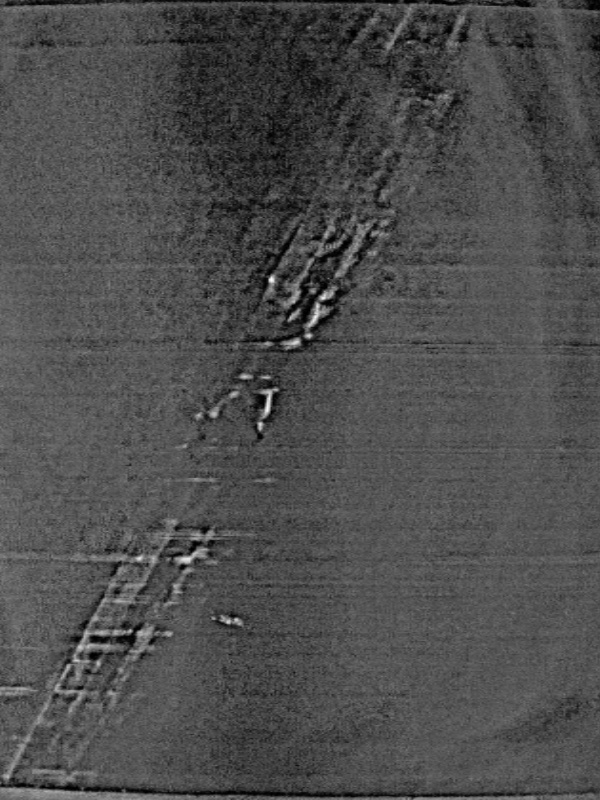splice_vulcanized: (2, 4, 473, 784)
